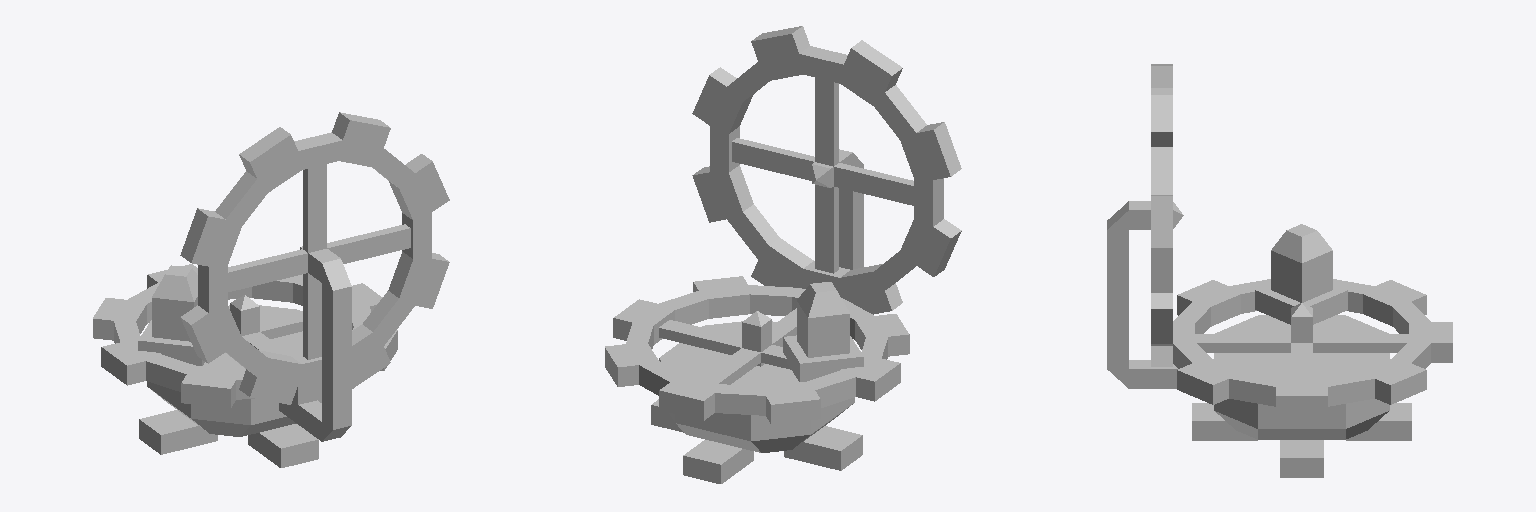
Rendered from centrifuge.obj.
3 renders of one model, left to right at view 1: azimuth 30°, elevation 25°; view 2: azimuth 150°, elevation 25°; view 3: azimuth 270°, elevation 25°, orthographic.
Visible parts, largest first — view 1: CENTRIFUGE_COG_VERTICAL_Cube.004, CENTRIFUGE_Cube.002, CENTRIFUGE_COG_HORIZONTAL_Cube.006; view 2: CENTRIFUGE_COG_VERTICAL_Cube.004, CENTRIFUGE_COG_HORIZONTAL_Cube.006, CENTRIFUGE_Cube.002; view 3: CENTRIFUGE_COG_HORIZONTAL_Cube.006, CENTRIFUGE_Cube.002, CENTRIFUGE_COG_VERTICAL_Cube.004.
Part boxes in pixels (x1,y1,x2,y2): CENTRIFUGE_COG_VERTICAL_Cube.004: (180, 112, 449, 404); CENTRIFUGE_Cube.002: (139, 246, 351, 467); CENTRIFUGE_COG_HORIZONTAL_Cube.006: (93, 264, 397, 408); CENTRIFUGE_COG_VERTICAL_Cube.004: (692, 26, 961, 314); CENTRIFUGE_COG_HORIZONTAL_Cube.006: (605, 276, 909, 424); CENTRIFUGE_Cube.002: (651, 149, 863, 483); CENTRIFUGE_COG_HORIZONTAL_Cube.006: (1173, 224, 1452, 415); CENTRIFUGE_Cube.002: (1107, 201, 1411, 477); CENTRIFUGE_COG_VERTICAL_Cube.004: (1151, 64, 1172, 366).
Bounding box in the file's own units: 0.8606 × 1.11 × 0.9856.